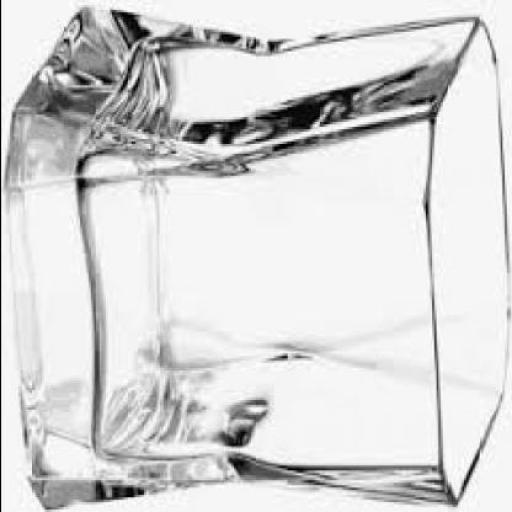glass: (6, 7, 511, 511)
